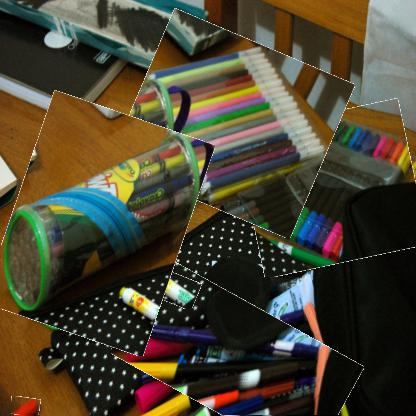Pen: (1, 101, 199, 347), (121, 24, 343, 224), (115, 279, 359, 415), (242, 106, 415, 272), (138, 267, 200, 306), (10, 396, 41, 415)
